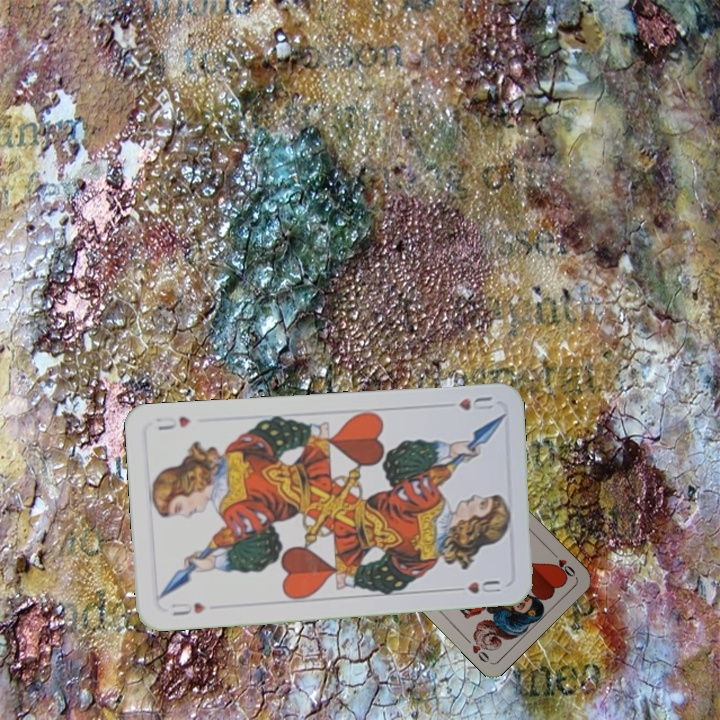HO: (546, 547, 578, 580)
HU: (455, 392, 496, 414), (167, 598, 209, 618)
